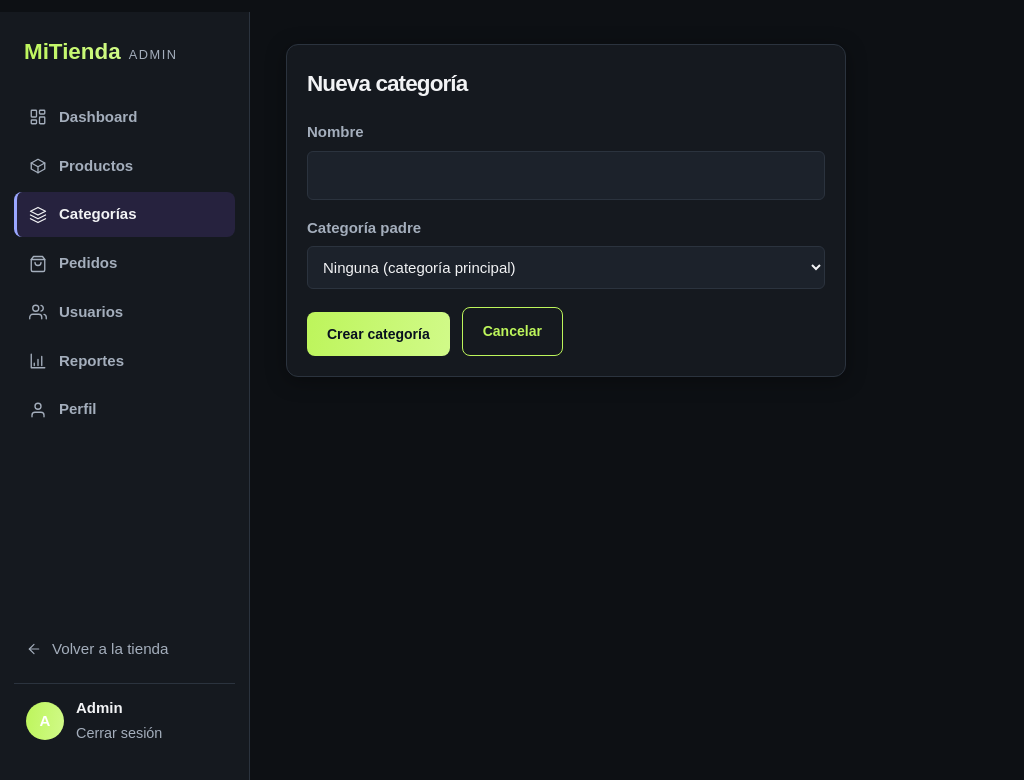
Scenario: Rutas y administración › UI35 categoría nueva se crea y navega al listado
The width and height of the screenshot is (1024, 780).
Type "Categoría demo" into the field labelled "Nombre" at [566, 175], box [307, 151, 825, 200]
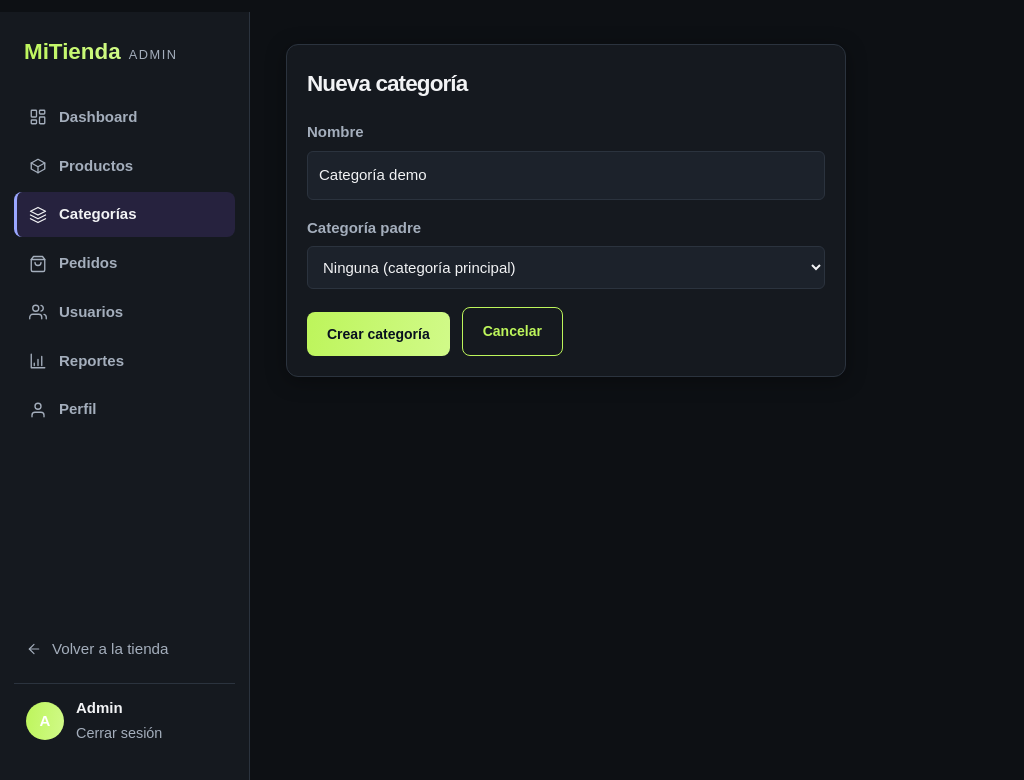
Click the button "Crear categoría" at [378, 334], box [307, 312, 450, 356]
(page scrolled)
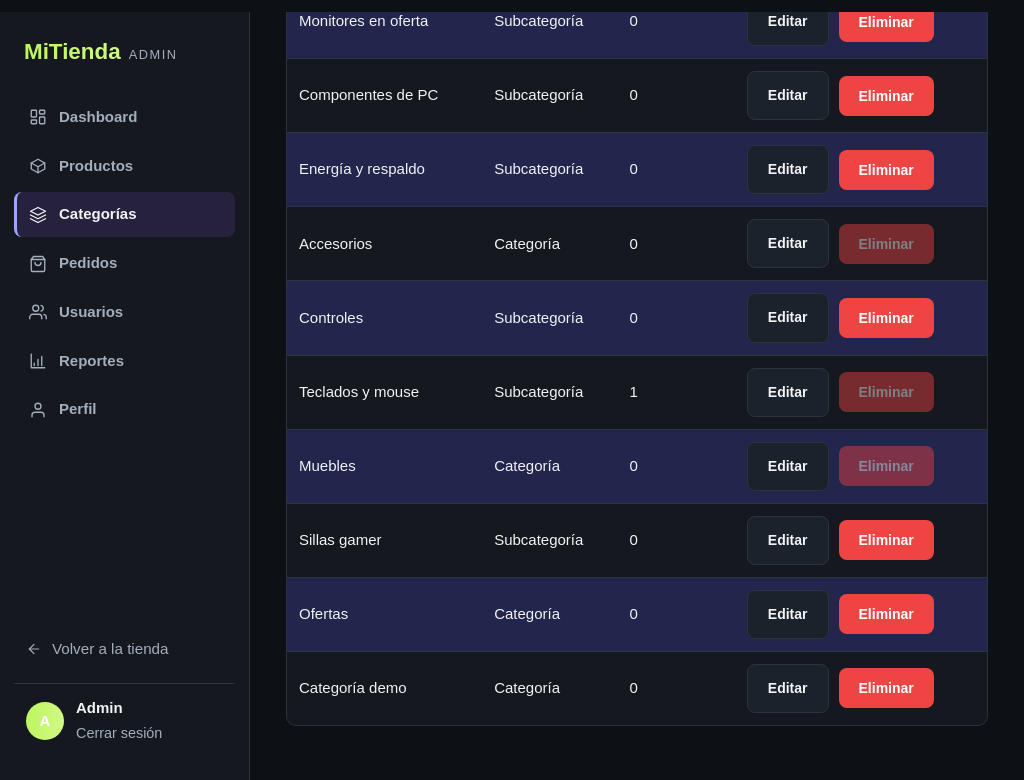
Now the text "Categoría demo" is shown, box [287, 652, 482, 725]
